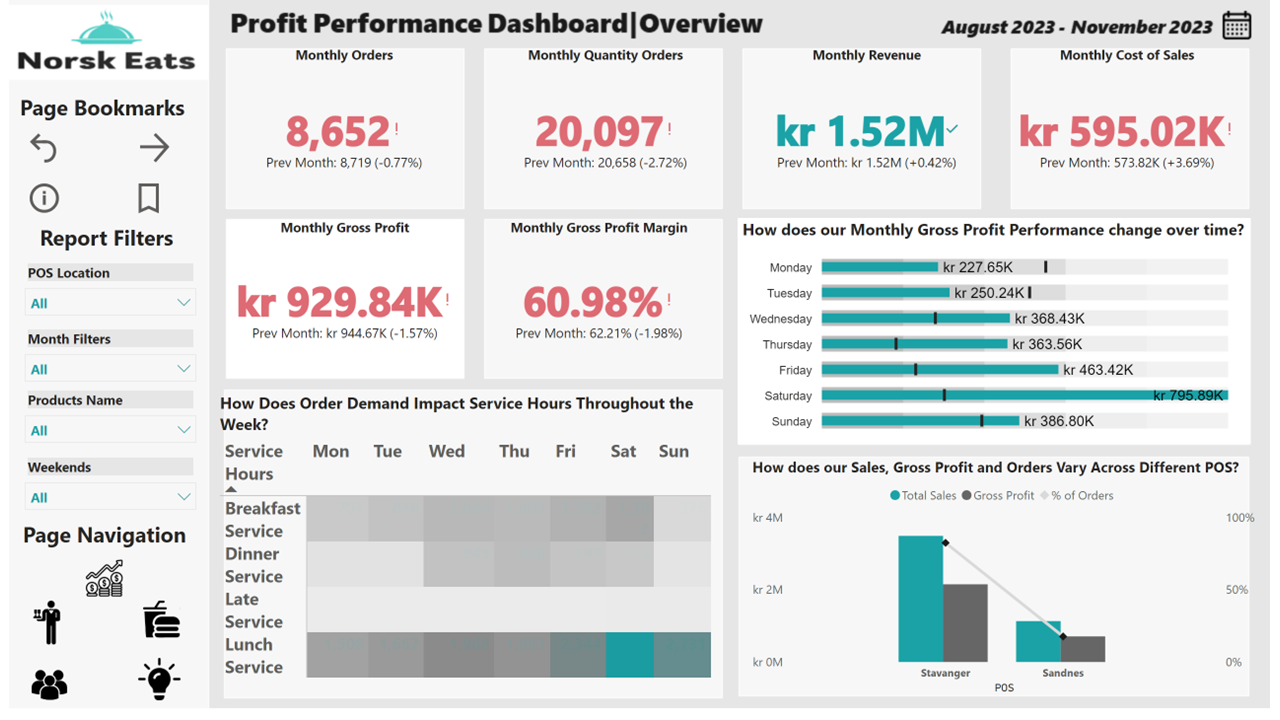

The dashboard page shown, as its layout file describes it:
{"tool":"powerbi","page":{"name":"Exec. Summary - Profit '📊'","canvas":[1280,720],"ordinal":0},"visuals":[{"type":"kpi","title":"Monthly Orders","fields":{"TrendLine":["dimCalendar.Start of Month"],"Indicator":["MeasureTable.Total Orders"],"Goal":["MeasureTable.Previous Month Orders"]},"box":[216.2,45.6,250,169.1],"z":0},{"type":"kpi","title":"Monthly Quantity Orders","fields":{"TrendLine":["dimCalendar.Start of Month"],"Indicator":["MeasureTable.Total quantity order"],"Goal":["MeasureTable.Previous Month Quantity Order"]},"box":[480.9,45.6,250,169.1],"z":1000},{"type":"kpi","title":"Monthly Revenue","fields":{"TrendLine":["dimCalendar.Start of Month"],"Indicator":["MeasureTable.Total Sales"],"Goal":["MeasureTable.Previous Month Sales"]},"box":[745.6,45.6,250,169.1],"z":2000},{"type":"kpi","title":"Monthly Cost of Sales","fields":{"TrendLine":["dimCalendar.Start of Month"],"Indicator":["MeasureTable.Total Cost of goods sold (COGS)"],"Goal":["MeasureTable.Previous Month Total cost of good sold"]},"box":[1010.3,45.6,250,169.1],"z":3000},{"type":"kpi","title":"Monthly Gross Profit","fields":{"TrendLine":["dimCalendar.Start of Month"],"Indicator":["MeasureTable.Gross Profit"],"Goal":["MeasureTable.Previous Month Gross Profit"]},"box":[223.5,220.6,235.3,164.7],"z":4000},{"type":"kpi","title":"Monthly Gross Profit Margin","fields":{"TrendLine":["dimCalendar.Start of Month"],"Indicator":["MeasureTable.Gross Profit Margin"],"Goal":["MeasureTable.Previous Month Gross Profit Margin"]},"box":[480.9,220.6,236.8,164.7],"z":5000},{"type":"pivotTable","title":"How Does Order Demand Impact Service Hours Throughout the Week?","fields":{"Rows":["SalesFact.Service Hours Grouping"],"Values":["MeasureTable.Total Orders"],"Columns":["dimCalendar.Shortened day name"]},"box":[210.3,397.1,511.8,311.8],"z":6000},{"type":"PBI_CV_9272D058_BEA0_476A_B090_A712545F92FA","title":"How does our Monthly Gross Profit Performance change over time?","fields":{"Category":["dimCalendar.Shortened Month Name","dimCalendar.Weekend","SalesFact.POS","SalesFact.Service Hours Grouping","dimCalendar.Day Name"],"tooltips":["MeasureTable.Total Orders","MeasureTable.Total quantity order","MeasureTable.Total Cost of goods sold (COGS)","MeasureTable.Total Sales"],"Value":["MeasureTable.Gross Profit"],"targets":["MeasureTable.Previous Month Gross Profit"]},"box":[739.7,220.6,520.6,229.4],"z":7000},{"type":"lineClusteredColumnComboChart","title":"How does our Sales, Gross Profit and Orders Vary Across Different POS?","fields":{"Y2":["MeasureTable.% of Orders"],"Category":["SalesFact.POS"],"Y":["MeasureTable.Total Sales","MeasureTable.Gross Profit"]},"box":[749.8,463.5,520.2,245.2],"z":8000},{"type":"actionButton","box":[15.6,130.4,45.4,39.7],"z":9000},{"type":"textbox","box":[7.1,89.3,188.5,41.1],"z":10000},{"type":"textbox","box":[7.1,221.1,185.7,41.1],"z":11000},{"type":"textbox","box":[0,521.6,195.6,41.1],"z":12000},{"type":"actionButton","box":[17,181.4,51,39.7],"z":13000},{"type":"actionButton","box":[127.6,130.4,56.7,39.7],"z":14000},{"type":"slicer","fields":{"Values":["SalesFact.POS"]},"box":[7.1,262.2,194,62.4],"z":15000},{"type":"slicer","fields":{"Values":["dimCalendar.Start of Month"]},"box":[7.1,328.8,194,62.4],"z":16000},{"type":"slicer","fields":{"Values":["dimProduct.Productname"]},"box":[7.1,391.2,194.2,62.4],"z":17000},{"type":"actionButton","box":[123.3,181.4,43.9,39.7],"z":18000},{"type":"slicer","fields":{"Values":["dimCalendar.Weekend"]},"box":[7.1,459.2,194.2,62.4],"z":19000},{"type":"actionButton","box":[75.1,562.7,45.4,46.8],"z":20000},{"type":"actionButton","box":[12.8,605.2,58.1,52.4],"z":21000},{"type":"actionButton","box":[133.2,605.2,59.5,45.4],"z":22000},{"type":"actionButton","box":[19.8,669,43.9,51],"z":23000},{"type":"actionButton","box":[127.6,663.3,55.3,51],"z":24000}]}

Visuals, with their boxes in screenshot pixels (x1, y1, x2, y2), scaled from the page's 1280x720 canvas onto the 1280x720 screenshot:
"Monthly Orders" kpi: <box>216,46,466,215</box>
"Monthly Quantity Orders" kpi: <box>481,46,731,215</box>
"Monthly Revenue" kpi: <box>746,46,996,215</box>
"Monthly Cost of Sales" kpi: <box>1010,46,1260,215</box>
"Monthly Gross Profit" kpi: <box>224,221,459,385</box>
"Monthly Gross Profit Margin" kpi: <box>481,221,718,385</box>
"How Does Order Demand Impact Service Hours Throughout the Week?" pivotTable: <box>210,397,722,709</box>
"How does our Monthly Gross Profit Performance change over time?" PBI_CV_9272D058_BEA0_476A_B090_A712545F92FA: <box>740,221,1260,450</box>
"How does our Sales, Gross Profit and Orders Vary Across Different POS?" lineClusteredColumnComboChart: <box>750,464,1270,709</box>
actionButton: <box>16,130,61,170</box>
textbox: <box>7,89,196,130</box>
textbox: <box>7,221,193,262</box>
textbox: <box>0,522,196,563</box>
actionButton: <box>17,181,68,221</box>
actionButton: <box>128,130,184,170</box>
slicer - SalesFact.POS: <box>7,262,201,325</box>
slicer - dimCalendar.Start of Month: <box>7,329,201,391</box>
slicer - dimProduct.Productname: <box>7,391,201,454</box>
actionButton: <box>123,181,167,221</box>
slicer - dimCalendar.Weekend: <box>7,459,201,522</box>
actionButton: <box>75,563,120,610</box>
actionButton: <box>13,605,71,658</box>
actionButton: <box>133,605,193,651</box>
actionButton: <box>20,669,64,719</box>
actionButton: <box>128,663,183,714</box>
